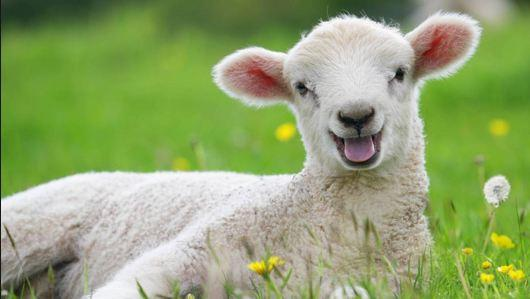koyun: (1, 16, 493, 298)
